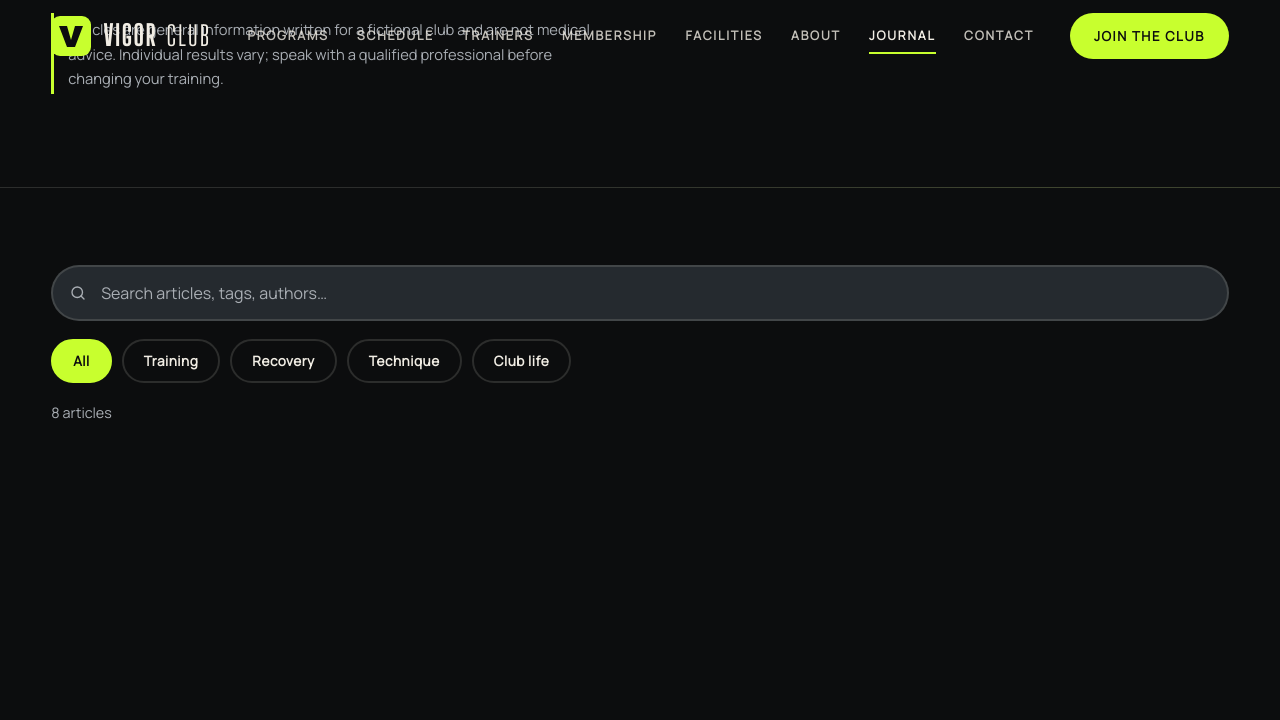
journal › searches and filters articles with empty state
(page scrolled)
Click the button "Recovery".
click(284, 361)  # box x1=230 y1=339 x2=337 y2=383
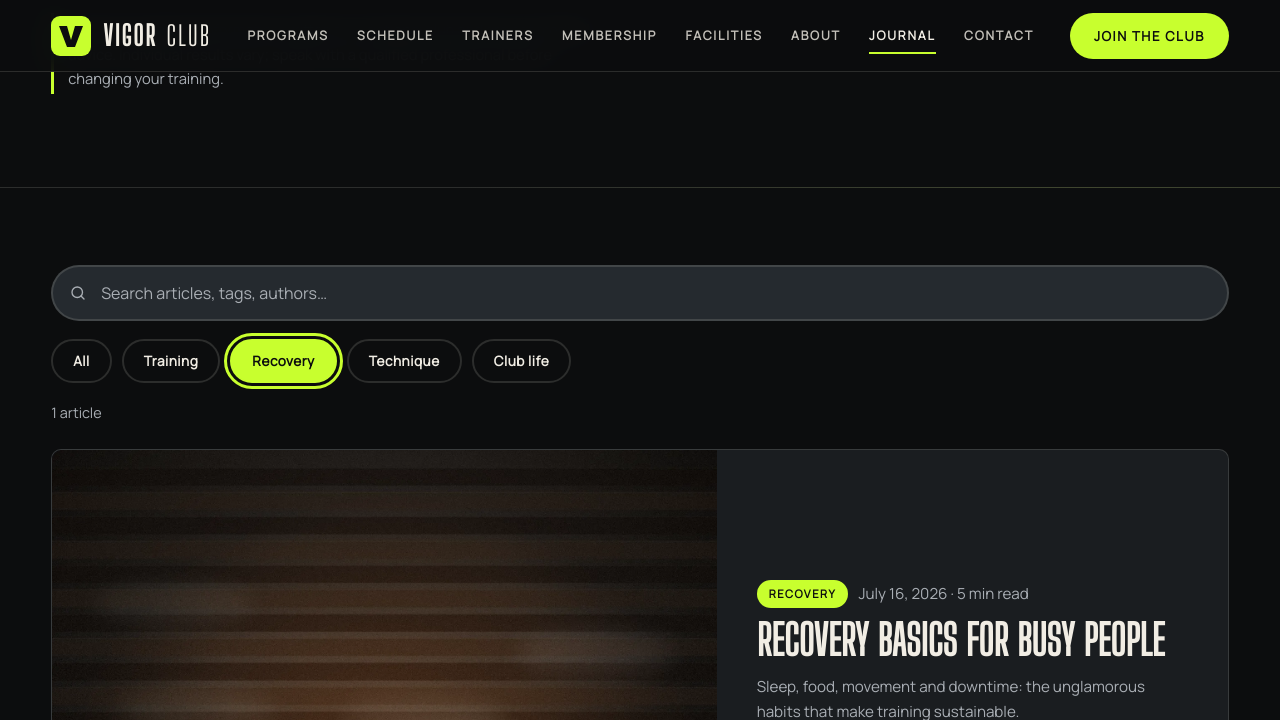
Now the text "1 article" is shown, box x1=51 y1=403 x2=102 y2=422
Click the button "All".
click(82, 361)  # box x1=51 y1=339 x2=112 y2=383
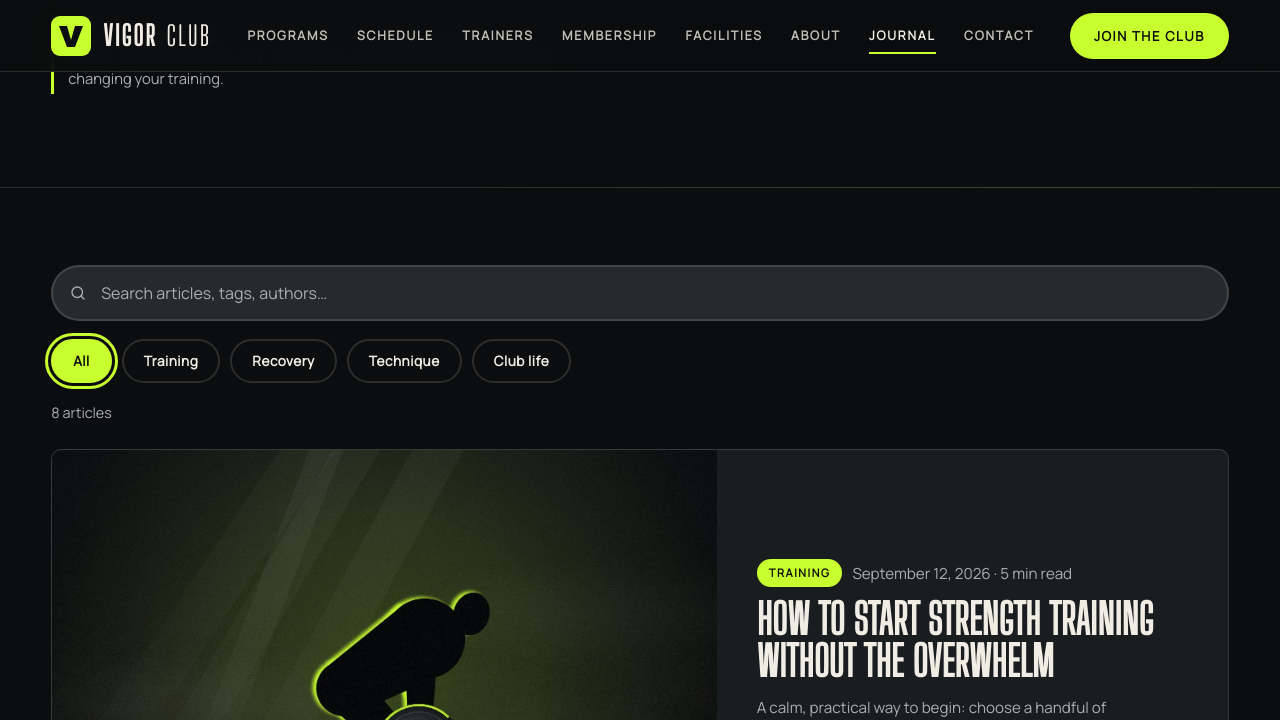
Type "kettlebell" into the search field.
click(640, 293); type("kettlebell")  # box x1=51 y1=265 x2=1229 y2=321
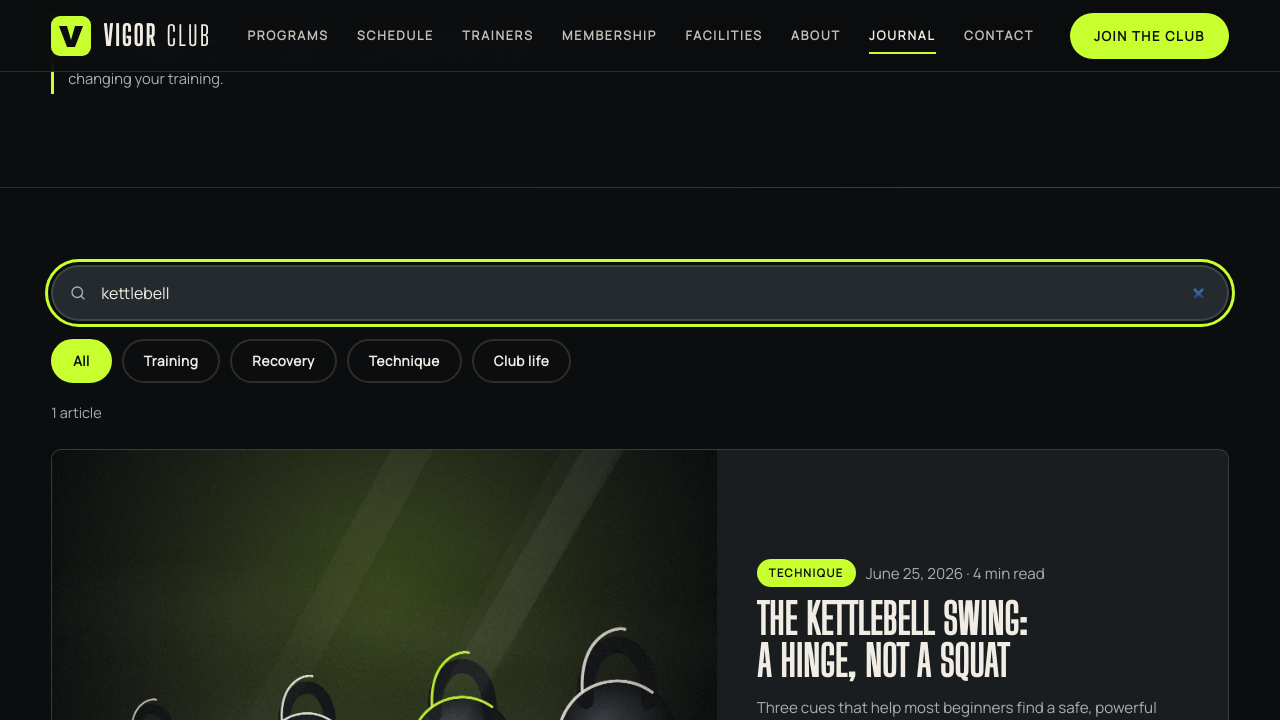
Replace the text in the search field with "qqqqzz" at point(640, 293), box x1=51 y1=265 x2=1229 y2=321
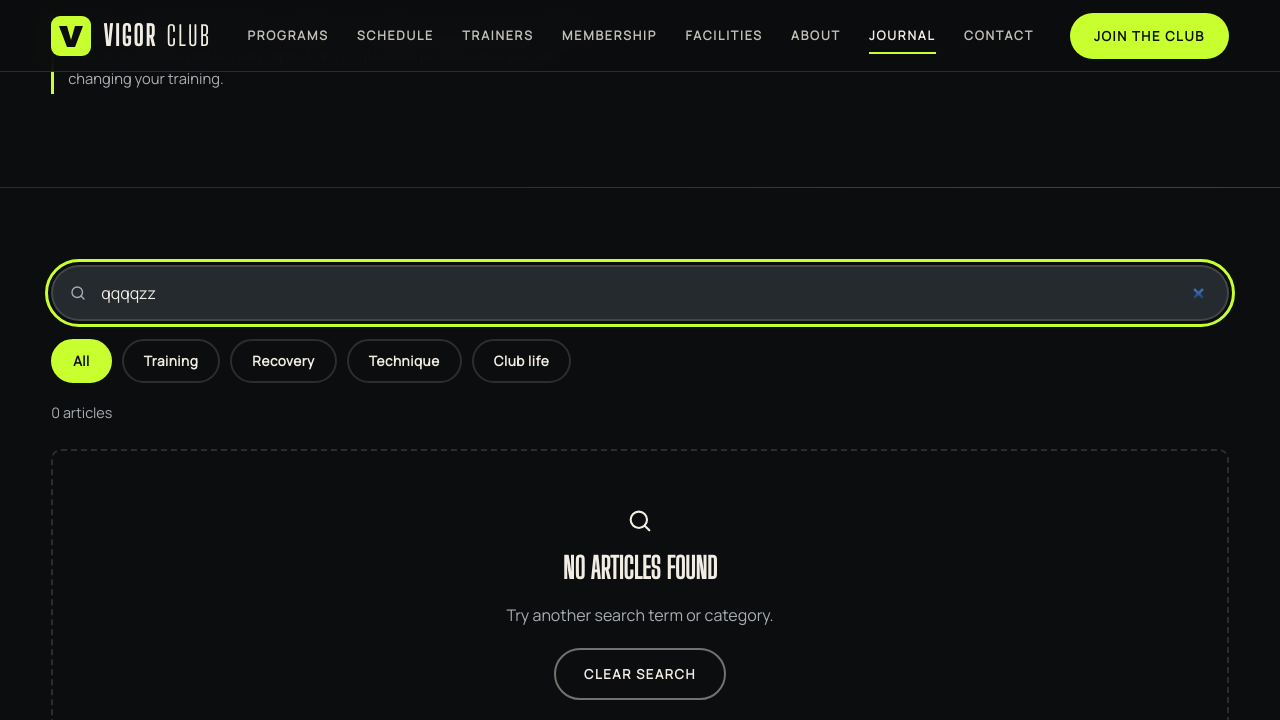
Now the heading "No articles found" is shown, box x1=563 y1=544 x2=717 y2=592
